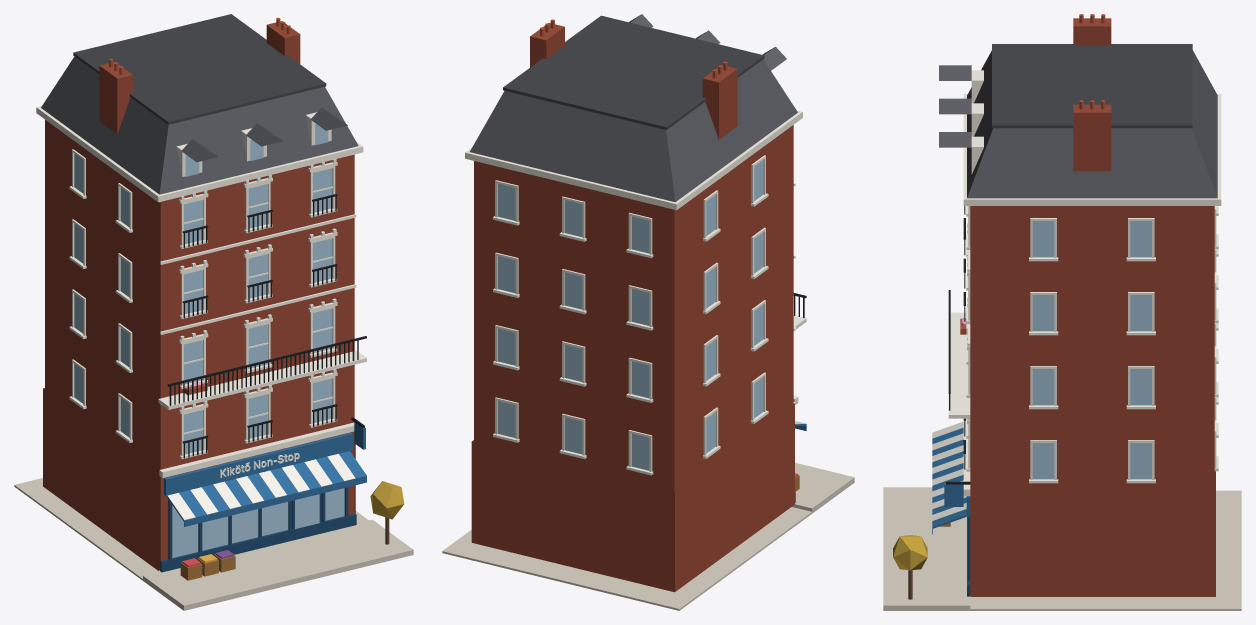
File: Dukkan_kikoto_nonstop_Hafif.fbx
3 views of the same model, side by side, from view 1: azimuth 30°, elevation 25°; view 2: azimuth 150°, elevation 25°; view 3: azimuth 270°, elevation 25° (orthographic). The views are drawn at different scales.
Parts seen in each view (by area): view 1: Dukkan_kikoto_nonstop_Hafif; view 2: Dukkan_kikoto_nonstop_Hafif; view 3: Dukkan_kikoto_nonstop_Hafif.
Part boxes in pixels (x1,y1,x2,y2): Dukkan_kikoto_nonstop_Hafif: (14,14,413,610); Dukkan_kikoto_nonstop_Hafif: (442,14,854,610); Dukkan_kikoto_nonstop_Hafif: (883,14,1241,610).
Bounding box in the file's own units: 10.33 × 20.02 × 13.17.
